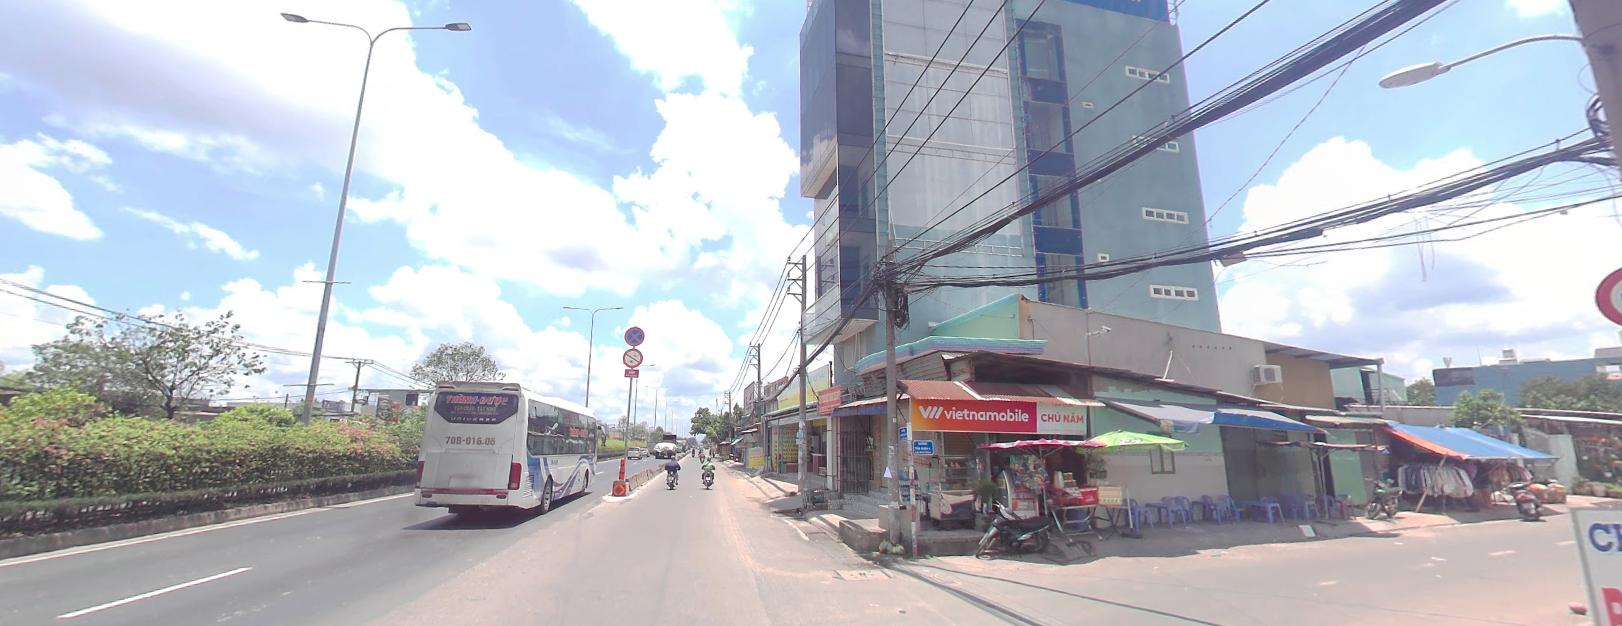Cam con lai: (1591, 257, 1621, 326), (622, 346, 643, 366), (622, 347, 642, 365)
Cam dung va do: (623, 324, 643, 344), (624, 324, 644, 342)
